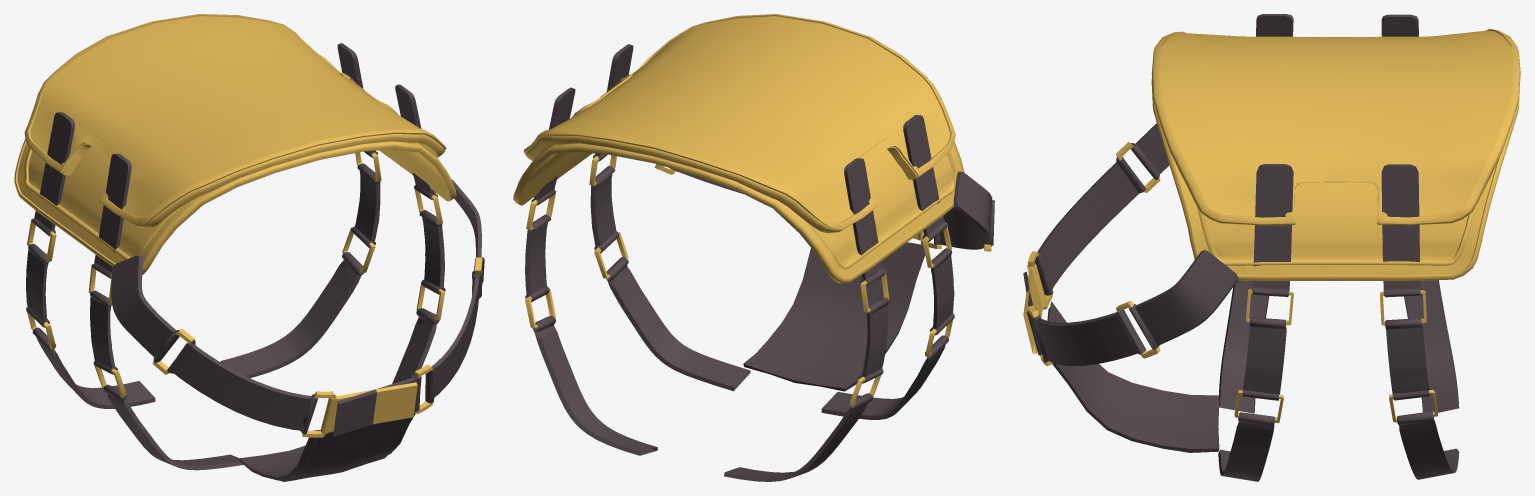
File: Vest1_Prop.fbx
The picture shows the model from 3 angles, left to right: view 1: azimuth 30°, elevation 25°; view 2: azimuth 150°, elevation 25°; view 3: azimuth 270°, elevation 25°; orthographic projection. The views are drawn at different scales.
Parts seen in each view (by area): view 1: Vest1; view 2: Vest1; view 3: Vest1.
Boxes of the visible parts, x1,y1,x2,y2 form: Vest1: [14, 14, 484, 481]; Vest1: [513, 14, 994, 481]; Vest1: [1023, 14, 1520, 481].
Size of the model in its own units: 0.7265 by 0.6519 by 0.7919.
